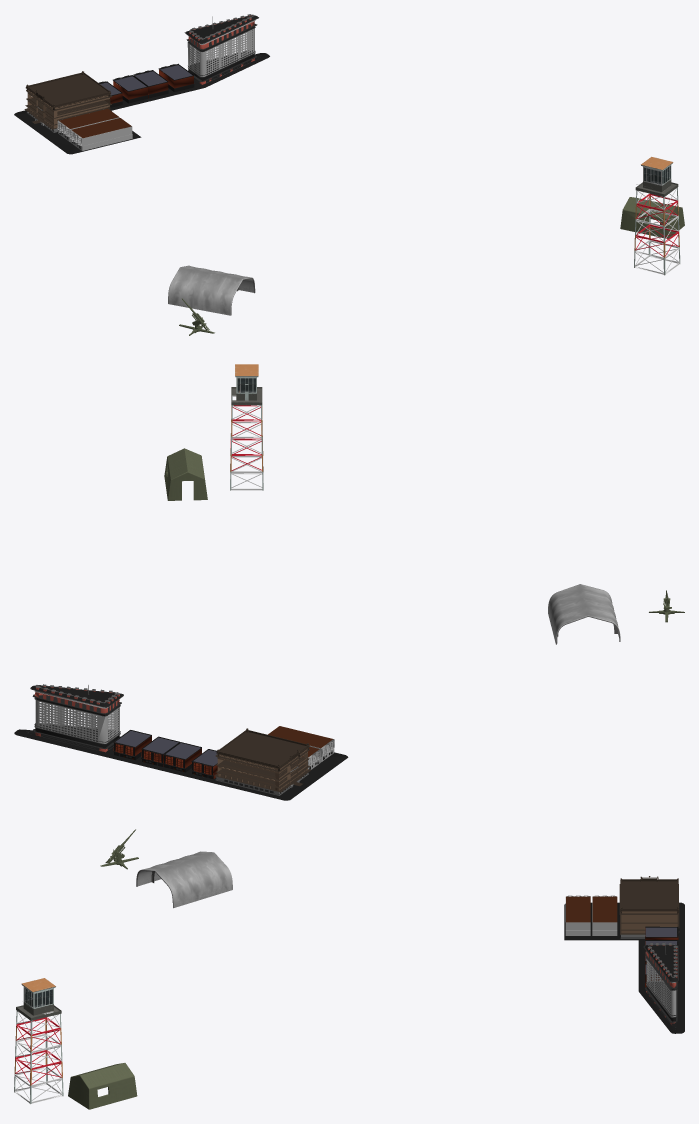
The model's file is Leningrad.glb.
3 views of the same model, one above another, from view 1: azimuth 30°, elevation 25°; view 2: azimuth 150°, elevation 25°; view 3: azimuth 270°, elevation 25° (orthographic). The views are drawn at different scales.
Visible parts, largest first — view 1: Layer:OLF_DOORS_Mahogany_0, defaultMaterial.263, clothBuilding001_Material #67_0, Box001_Main Tent_0; view 2: Layer:OLF_DOORS_Mahogany_0, defaultMaterial.263, clothBuilding001_Material #67_0, Box001_Main Tent_0; view 3: Layer:OLF_DOORS_Mahogany_0, defaultMaterial.263, clothBuilding001_Material #67_0, Box001_Main Tent_0.
Part boxes in pixels (x1,y1,x2,y2): Layer:OLF_DOORS_Mahogany_0: (14,14,269,154); defaultMaterial.263: (634,156,680,275); clothBuilding001_Material #67_0: (168,265,255,315); Box001_Main Tent_0: (620,197,684,238); Layer:OLF_DOORS_Mahogany_0: (14,684,348,800); defaultMaterial.263: (230,364,263,490); clothBuilding001_Material #67_0: (548,584,620,644); Box001_Main Tent_0: (164,448,207,500); Layer:OLF_DOORS_Mahogany_0: (564,876,684,1033); defaultMaterial.263: (14,978,63,1104); clothBuilding001_Material #67_0: (136,851,232,908); Box001_Main Tent_0: (68,1063,137,1109).
Size of the model in its own units: 206 by 41.82 by 232.
Materials: 29 (5 with a texture image).
